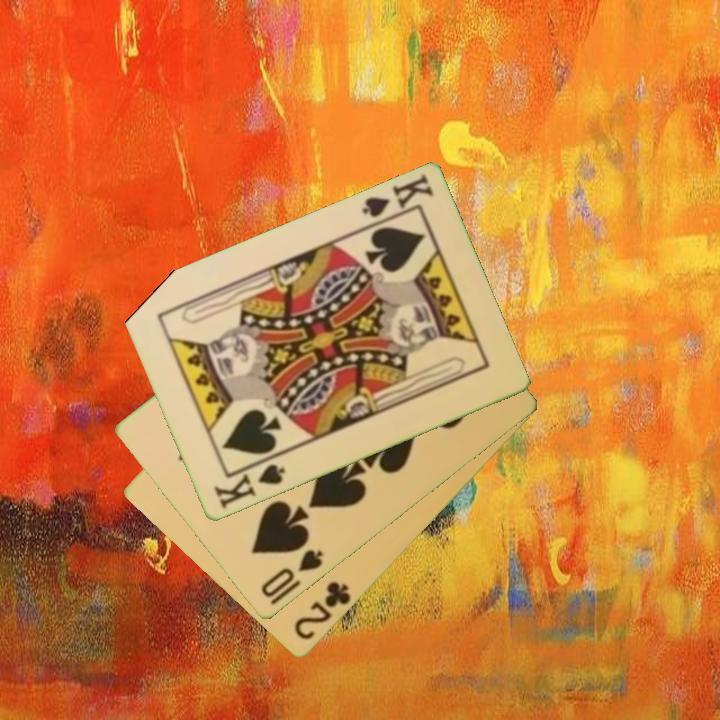10s: (257, 546, 327, 601)
2c: (291, 578, 354, 643)
Ks: (358, 171, 436, 231), (210, 454, 288, 512)
